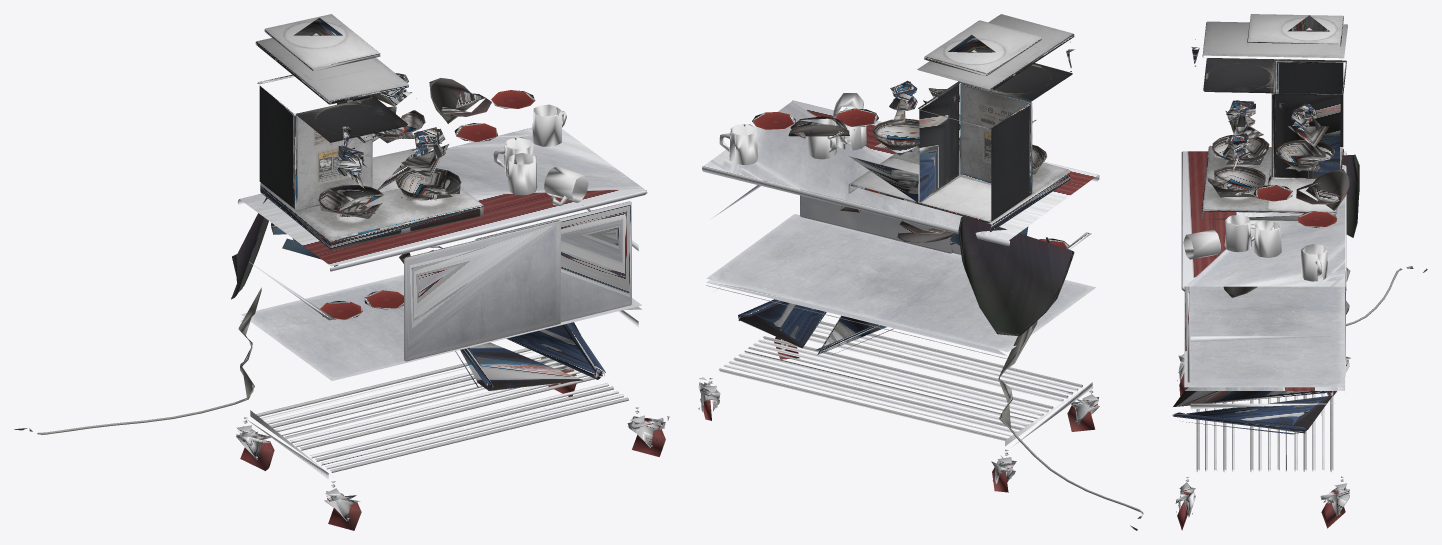
Rendered from CoffeeCart_01.gltf.
The picture shows the model from 3 angles, left to right: view 1: azimuth 30°, elevation 25°; view 2: azimuth 150°, elevation 25°; view 3: azimuth 270°, elevation 25°; orthographic projection. The views are drawn at different scales.
Visible parts, largest first — view 1: CoffeeCart_01_cart, CoffeeCart_01_props, CoffeeCart_01_mugs; view 2: CoffeeCart_01_cart, CoffeeCart_01_props, CoffeeCart_01_mugs; view 3: CoffeeCart_01_props, CoffeeCart_01_cart, CoffeeCart_01_mugs.
Boxes of the visible parts, x1,y1,x2,y2 form: CoffeeCart_01_cart: (236,127,669,530); CoffeeCart_01_props: (14,14,605,434); CoffeeCart_01_mugs: (493,104,588,205); CoffeeCart_01_cart: (698,100,1099,492); CoffeeCart_01_props: (738,14,1143,530); CoffeeCart_01_mugs: (719,93,866,165); CoffeeCart_01_props: (1172,14,1427,434); CoffeeCart_01_cart: (1175,151,1350,530); CoffeeCart_01_mugs: (1183,215,1327,281).
Bounding box in the file's own units: 2.11 × 1.72 × 1.03.
Materials: 3 (2 with a texture image).
